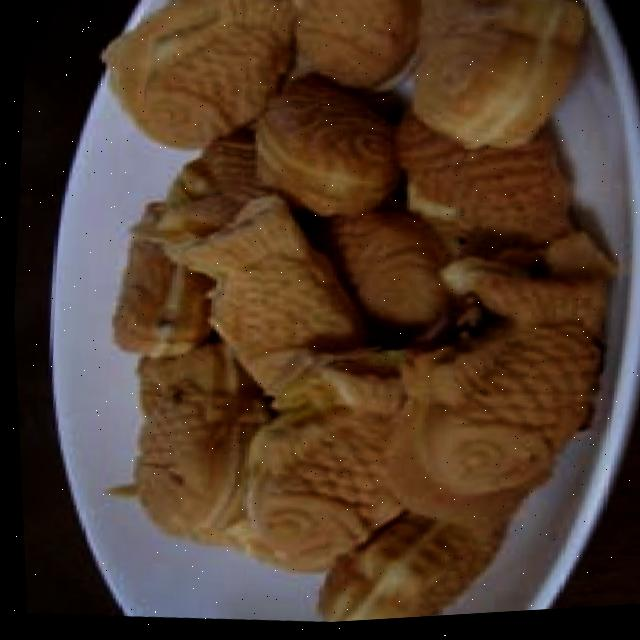熟制海鲜: (46, 0, 630, 638)
